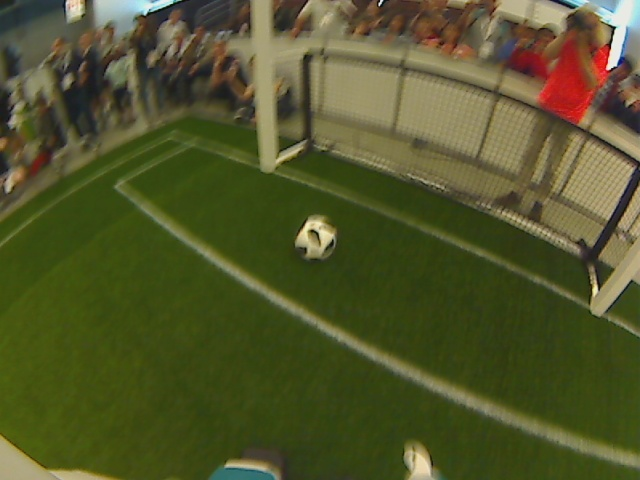ball: (293, 215, 339, 259)
